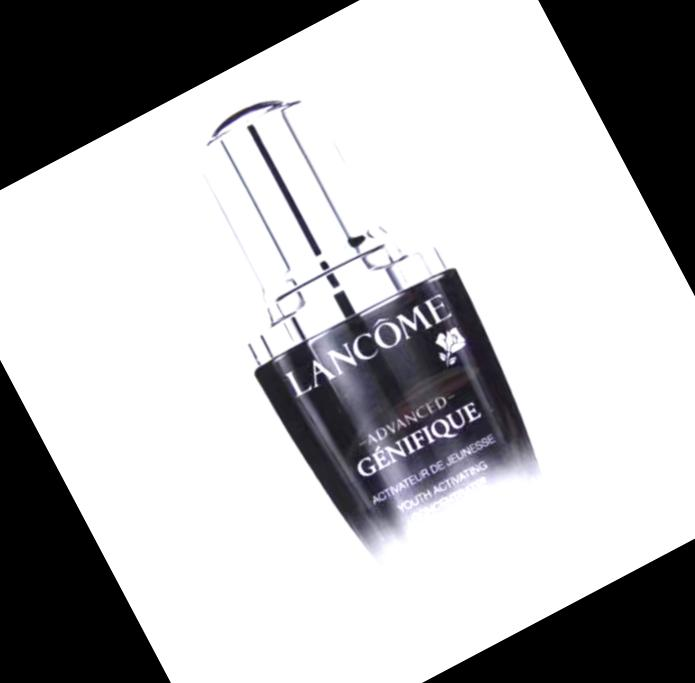cosmetic: (141, 51, 605, 651)
